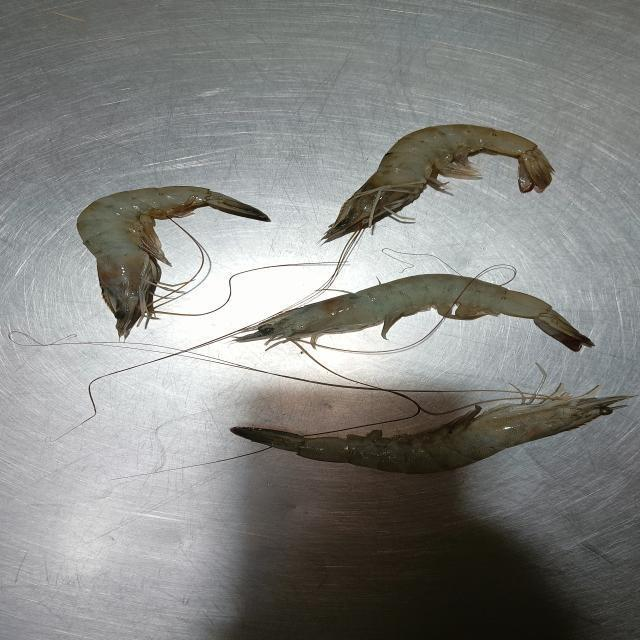shrimp: (230, 396, 630, 473), (77, 187, 268, 337), (227, 275, 592, 351), (323, 125, 552, 240)
